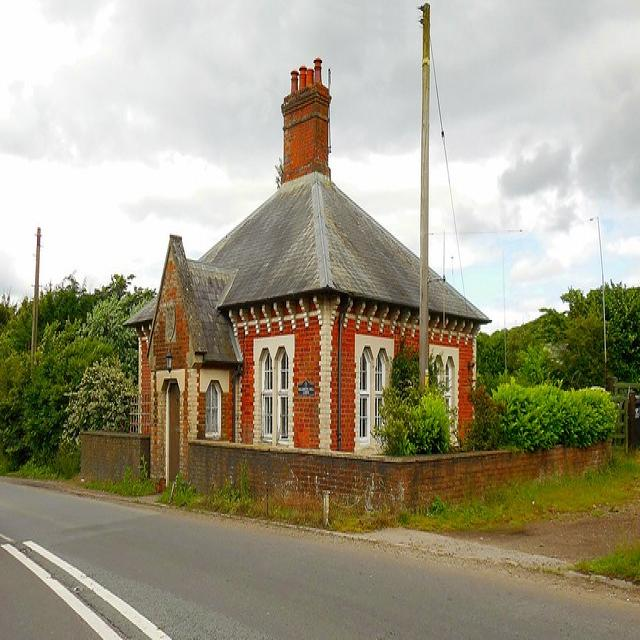building: (118, 173, 492, 511)
